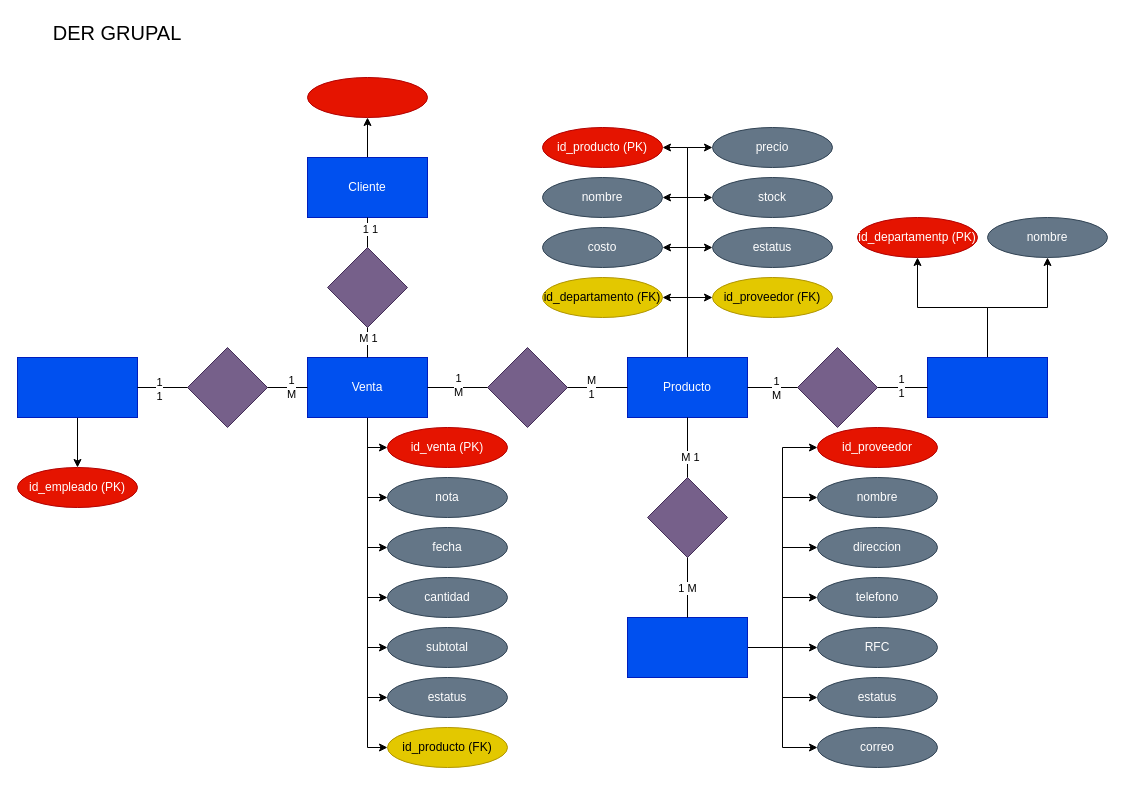
The diagram is 1125 pixels wide and 785 high, and some of its shapes have lost their labels. Here are the shapes that lost their labels. From the top down, the centre of each, then its label:
the point at 367,97: id_cliente (PK)
the point at 367,287: tiene M: 1
the point at 77,387: Empleado
the point at 227,387: realiza 1: M
the point at 527,387: tiene M:N
the point at 837,387: esta M: 1
the point at 987,387: Departamento
the point at 687,517: entrega M: N
the point at 687,647: Proveedor
